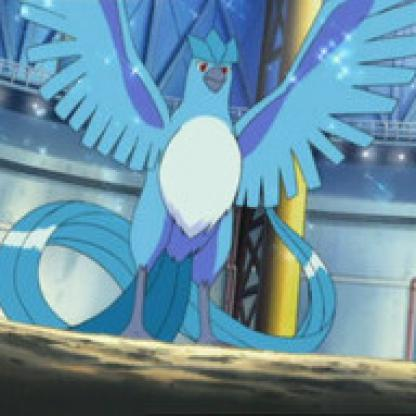Articuno: (1, 1, 415, 356)
